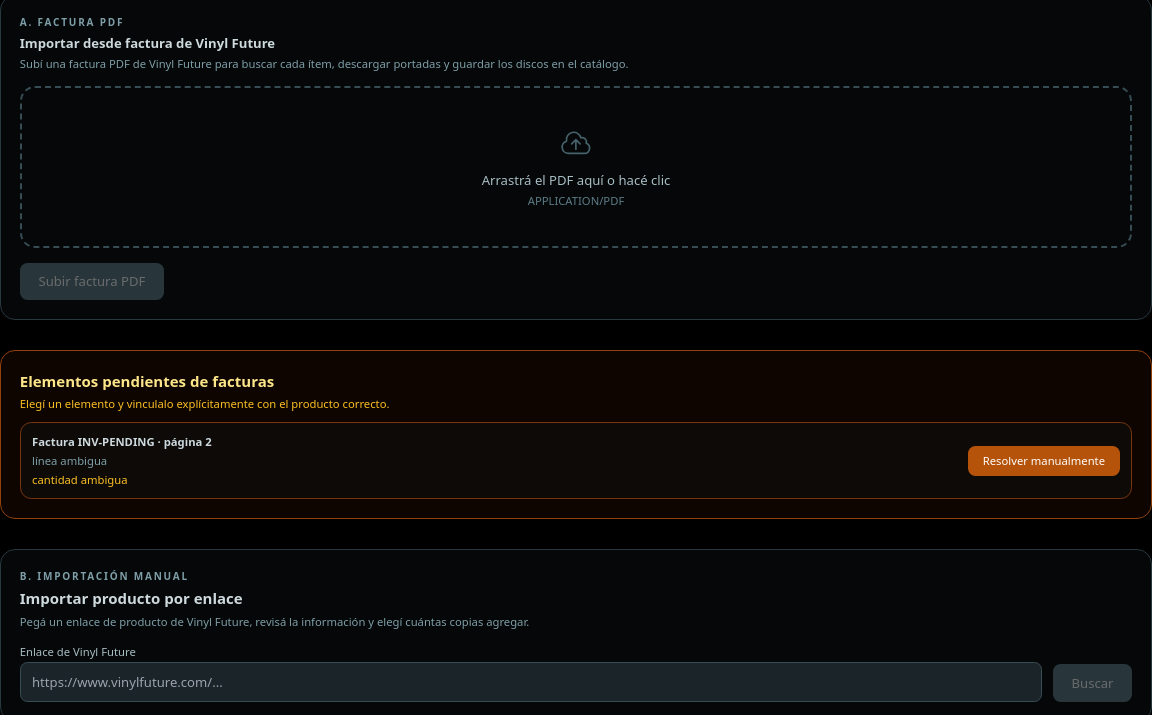
Test case: VinylFutureTab: importación manual y recuperación › abre la resolución manual conservando la referencia y cantidad estimada
Click the button "Resolver manualmente" at (1044, 460), box [968,446,1120,476]
(page scrolled)
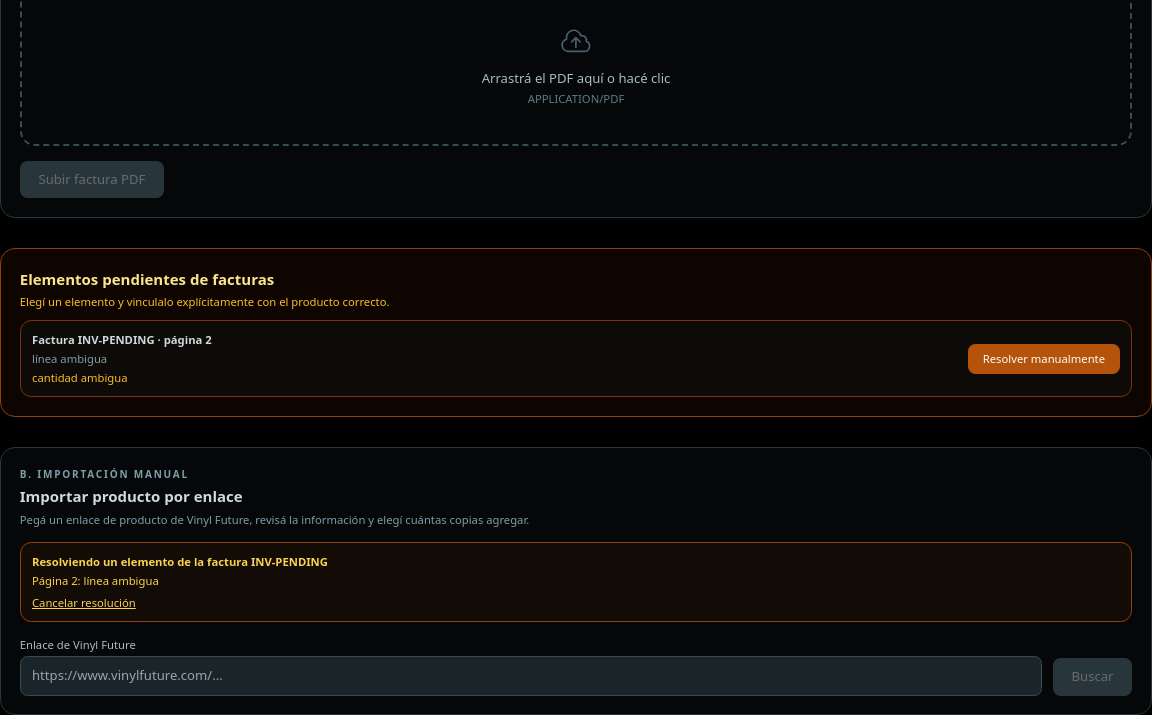
Result: the text "Resolviendo un elemento de la factura INV-PENDING" is shown at [32,554,328,569]
Type "https://www.vinylfuture.com/product__123" into the field labelled "Enlace de Vinyl Future" at (531, 676), box [20,656,1042,696]
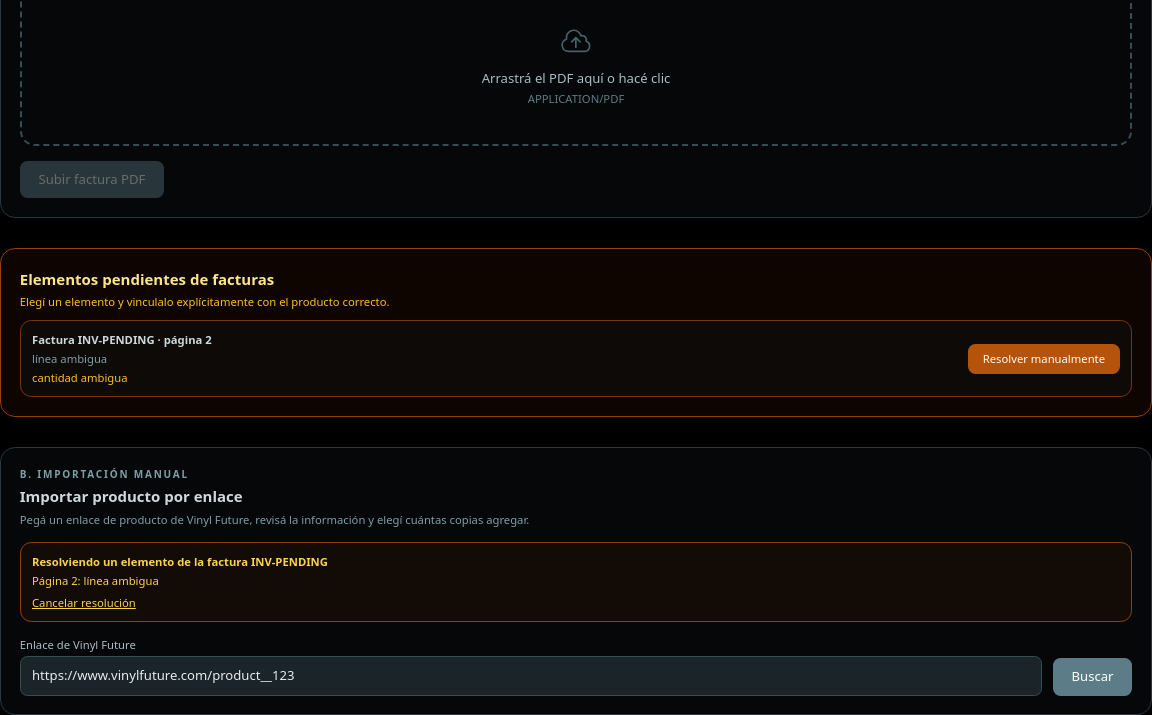
Click the button "Buscar" at (1093, 677), box [1053,658,1132,696]
(page scrolled)
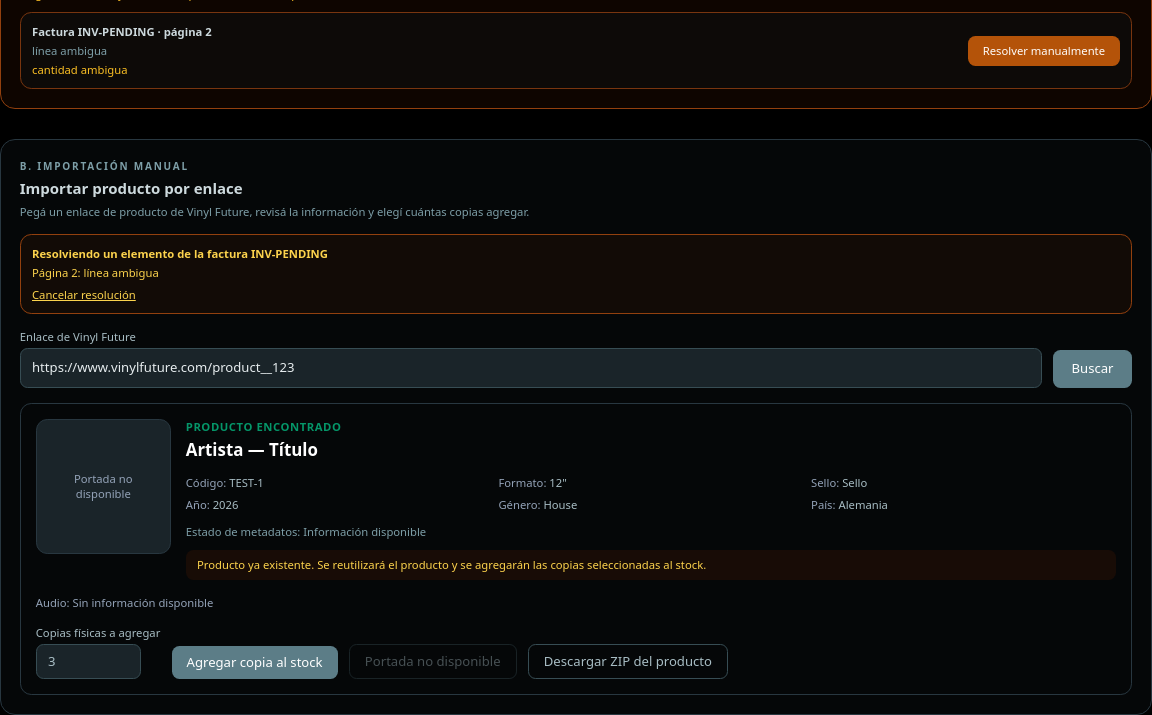
Result: the number field labelled "Copias físicas a agregar" holds "3" at [36,644,141,679]
